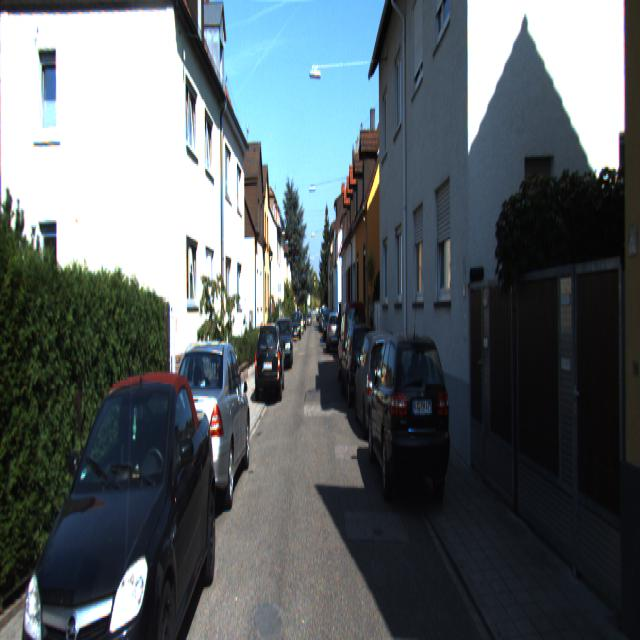Car: (16, 355, 219, 638), (165, 327, 252, 526), (367, 320, 454, 518), (352, 322, 404, 444), (341, 318, 379, 416), (338, 295, 368, 391), (254, 318, 283, 401), (272, 315, 293, 371), (327, 312, 342, 355)
